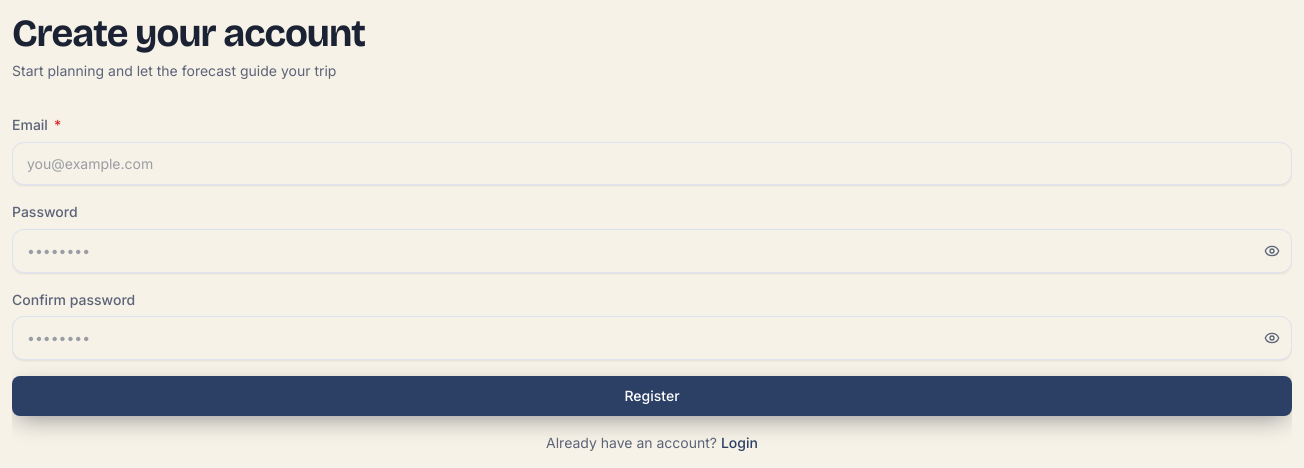
Test case: both password fields are masked by default and toggle independently
The width and height of the screenshot is (1304, 468).
// Toggle only the password field's visibility.
Click the 1st button named "show password": click(1272, 251) [1264,243,1280,259]
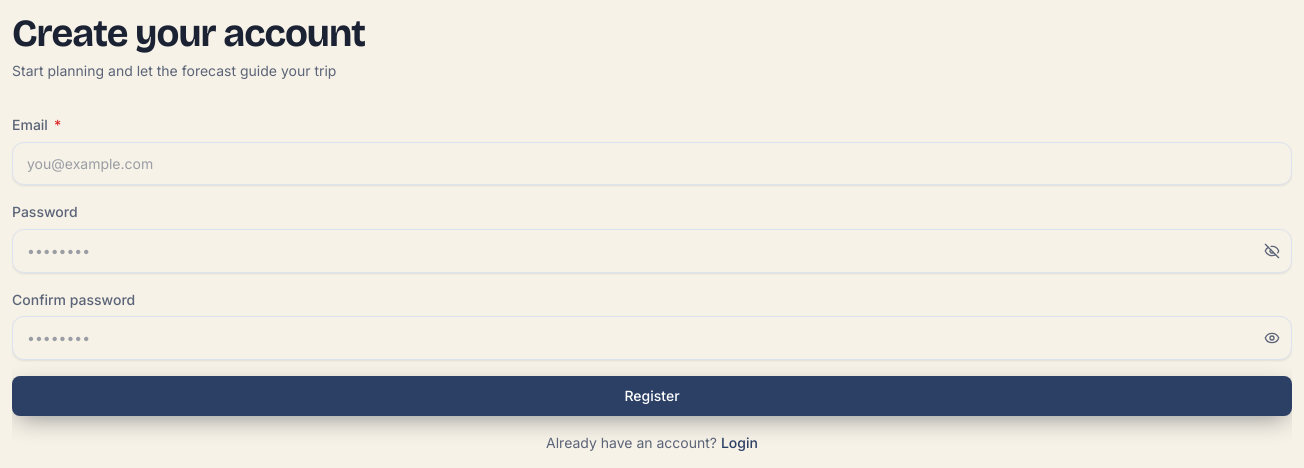
Expected: the number of buttons named "show password" is 1, [1264,330,1280,346]
Expected: the button named "hide password" is shown, [1264,243,1280,259]
